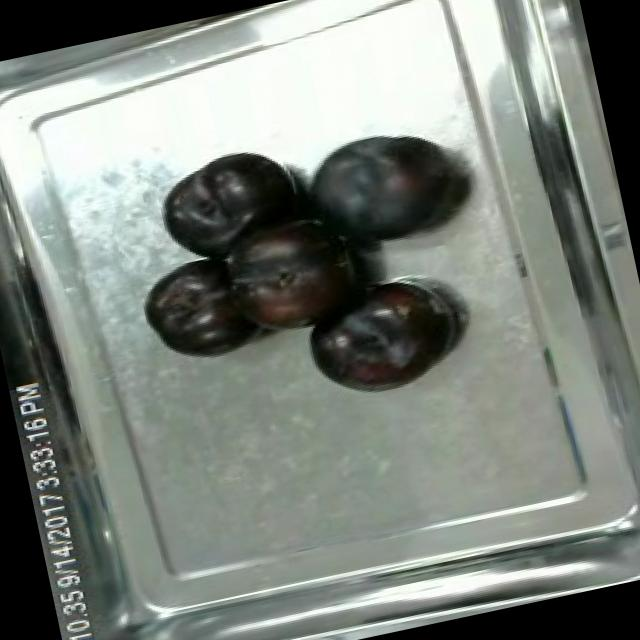Fruit: (290, 110, 476, 264), (202, 202, 369, 354), (292, 266, 467, 410), (144, 136, 316, 270), (132, 250, 260, 374)
